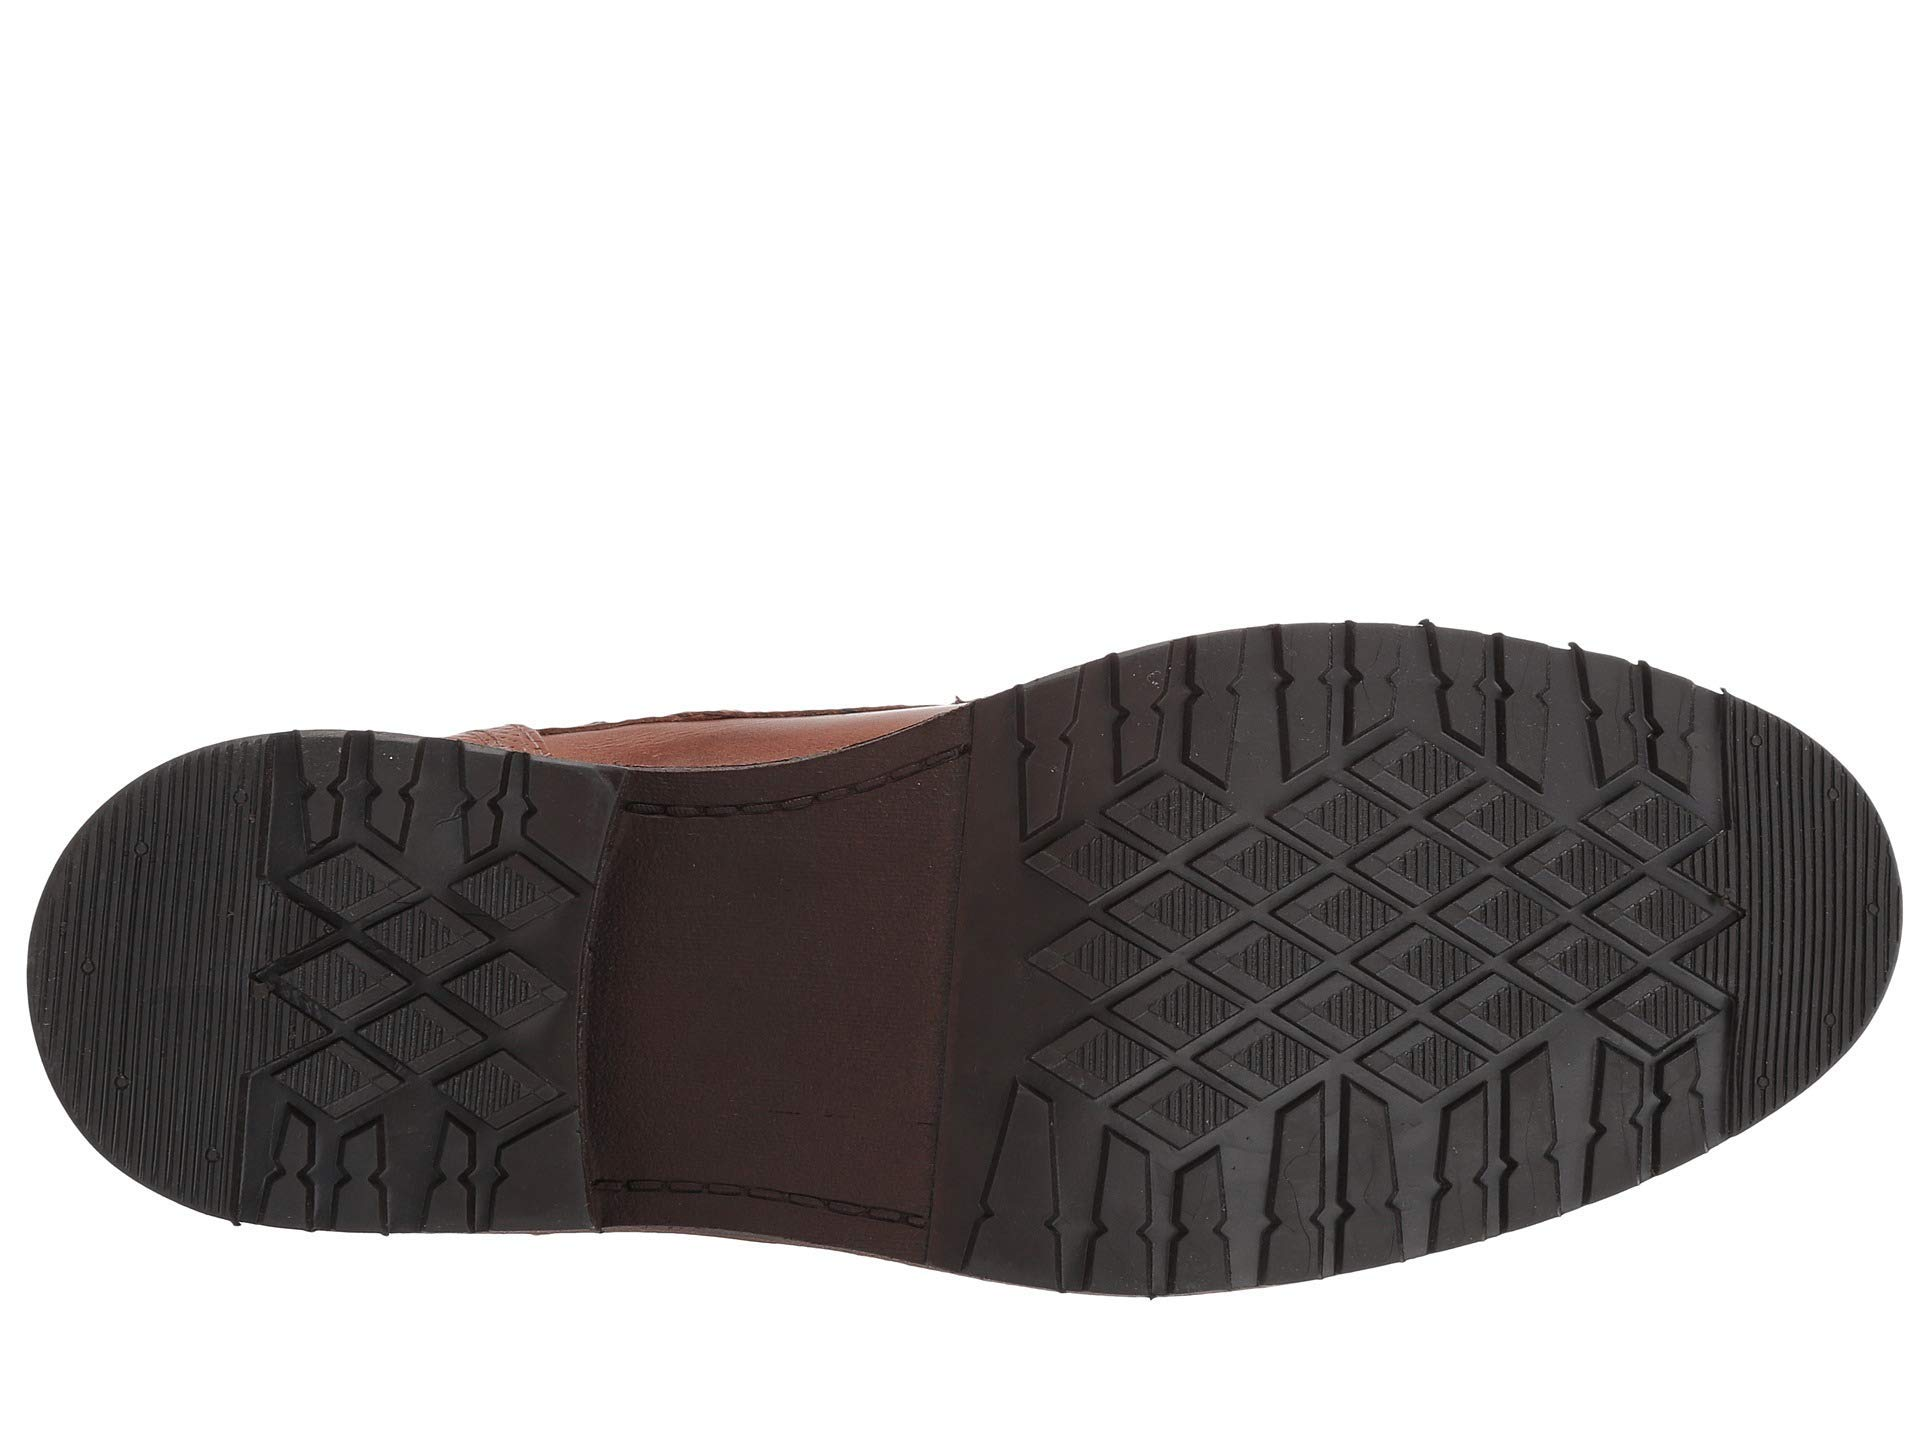bowtie: (1432, 578, 1799, 979), (1070, 613, 1429, 974), (981, 1023, 1327, 1381), (1336, 982, 1683, 1330), (274, 722, 578, 1029), (1252, 1071, 1418, 1304), (1076, 1104, 1252, 1319), (1096, 619, 1264, 802), (1578, 1023, 1730, 1222), (1571, 610, 1725, 805), (1268, 596, 1418, 782), (1418, 610, 1554, 799), (249, 1097, 404, 1258), (289, 718, 435, 883)
chevron: (1432, 578, 1799, 979), (1070, 613, 1429, 974), (981, 1023, 1327, 1381), (1336, 982, 1683, 1330), (274, 722, 578, 1029), (1054, 829, 1321, 1044), (283, 888, 502, 1094), (1371, 829, 1565, 1038)
line: (1432, 578, 1799, 979), (1070, 613, 1429, 974), (981, 1023, 1327, 1381), (1336, 982, 1683, 1330), (274, 722, 578, 1029), (1054, 829, 1321, 1044), (283, 888, 502, 1094), (1371, 829, 1565, 1038), (62, 889, 242, 1113), (1739, 833, 1872, 988)
quad: (1432, 578, 1799, 979), (1070, 613, 1429, 974), (981, 1023, 1327, 1381), (1336, 982, 1683, 1330), (274, 722, 578, 1029), (1054, 829, 1321, 1044), (283, 888, 502, 1094), (1371, 829, 1565, 1038)
